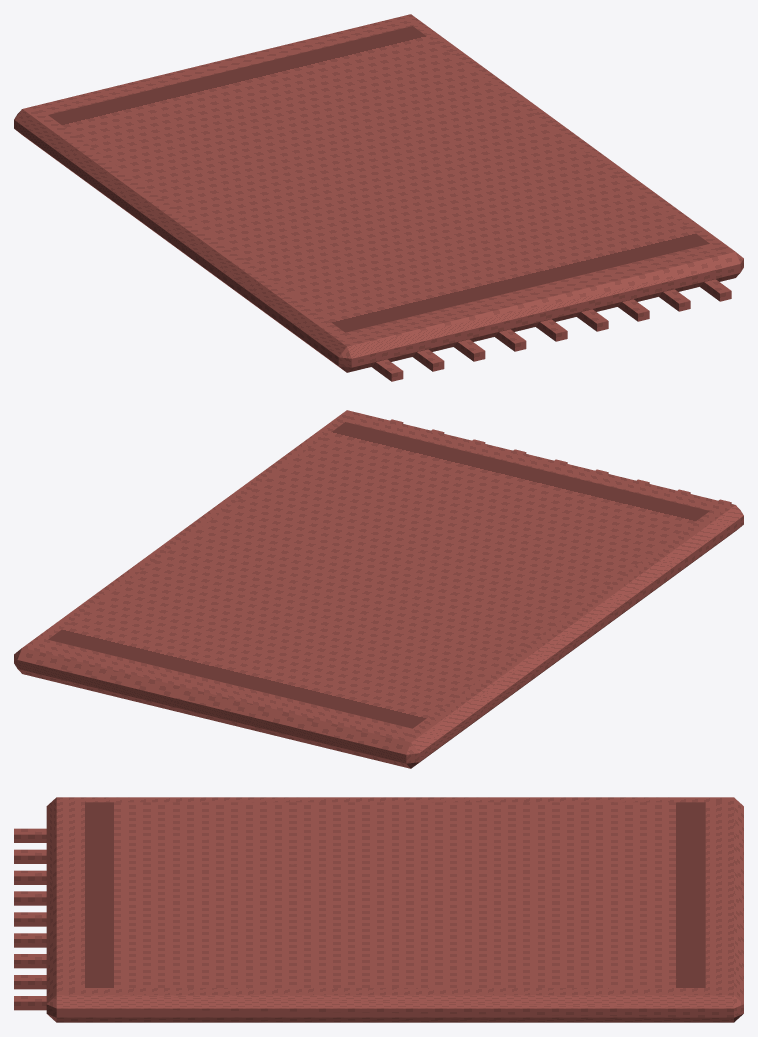
The model's file is scarf.glb.
3 views of the same model, one above another, from view 1: azimuth 30°, elevation 25°; view 2: azimuth 150°, elevation 25°; view 3: azimuth 270°, elevation 25° (orthographic). The views are drawn at different scales.
Visible parts, largest first — view 1: block_hem or woven pattern, block_folded textile; view 2: block_hem or woven pattern, block_folded textile; view 3: block_hem or woven pattern, block_folded textile, block_tassel 0, block_tassel 1, block_tassel 2, block_tassel 3, block_tassel 4, block_tassel 5, block_tassel 6, block_tassel 7, block_tassel 8.
Part boxes in pixels (bbox=[...]): block_hem or woven pattern: bbox=[48, 26, 709, 332]; block_folded textile: bbox=[14, 14, 743, 372]; block_hem or woven pattern: bbox=[48, 422, 709, 728]; block_folded textile: bbox=[14, 410, 743, 768]; block_hem or woven pattern: bbox=[85, 802, 705, 987]; block_folded textile: bbox=[46, 797, 743, 1022]; block_tassel 0: bbox=[14, 828, 46, 842]; block_tassel 1: bbox=[14, 849, 46, 863]; block_tassel 2: bbox=[14, 870, 46, 884]; block_tassel 3: bbox=[14, 891, 46, 905]; block_tassel 4: bbox=[14, 912, 46, 926]; block_tassel 5: bbox=[14, 933, 46, 947]; block_tassel 6: bbox=[14, 954, 46, 968]; block_tassel 7: bbox=[14, 975, 46, 989]; block_tassel 8: bbox=[14, 996, 46, 1010].
Size of the model in its own units: 0.21 by 0.0135 by 0.314.
Materials: 1 (1 with a texture image).
